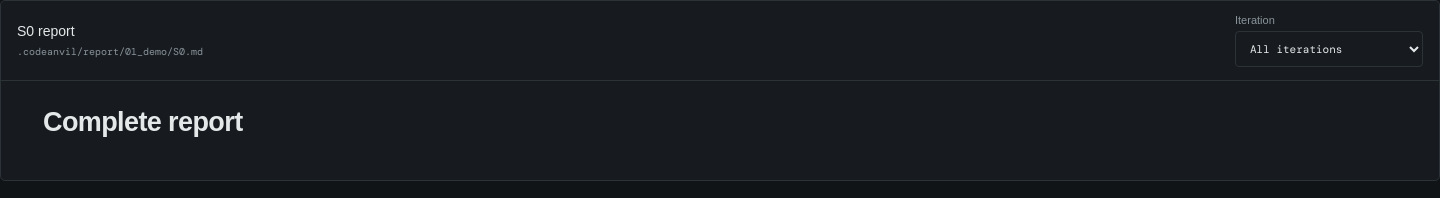
Scenario: ArtifactViewer › requests a chosen report iteration and renders its returned content
The image size is (1440, 198).
Expected: the heading "Complete report" is shown, [43,107,242,137]
Select "Iteration 1 · FEEDBACK" in the dropdown named "Report iteration". click: (1329, 49)
box: [1235,31,1423,67]
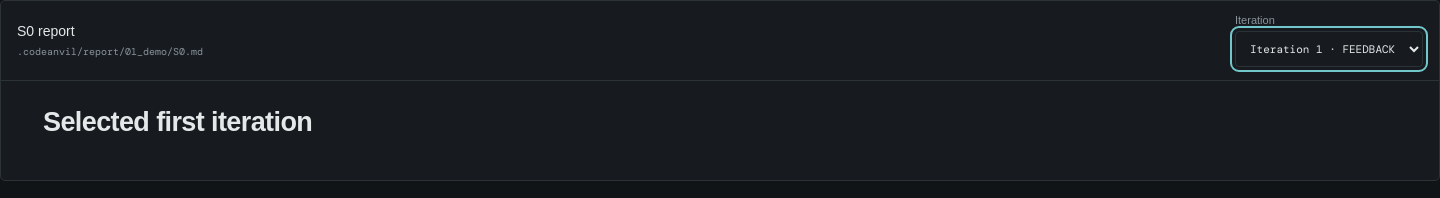
Result: the heading "Selected first iteration" is shown at [43,107,312,137]
Result: the heading "Complete report" is gone
